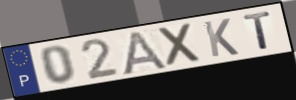0: (38, 43, 78, 87)
2: (79, 37, 121, 82)
A: (120, 29, 170, 77)
K: (201, 17, 241, 59)
T: (241, 10, 274, 52)
X: (156, 21, 205, 69)
